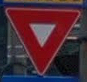cedeaza: (5, 4, 82, 77)
